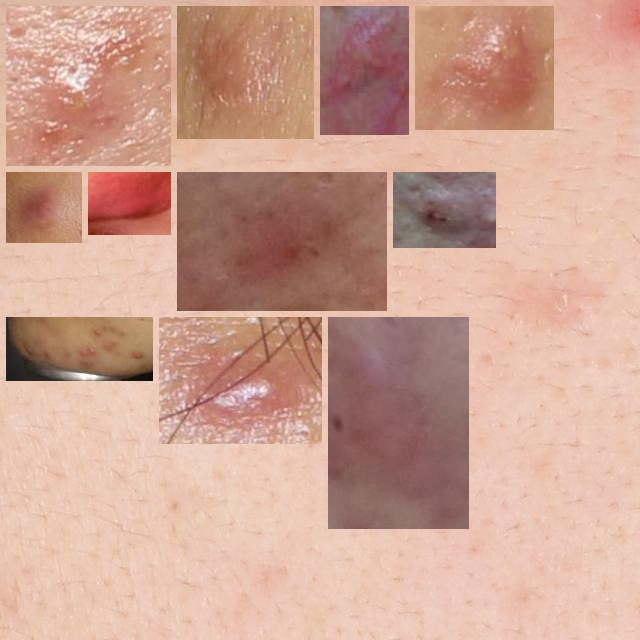nodule: (336, 325, 461, 521), (185, 180, 379, 303), (14, 14, 163, 158), (167, 325, 314, 436), (185, 14, 306, 131), (423, 14, 546, 122), (328, 14, 401, 127), (14, 325, 145, 373), (401, 180, 488, 240), (14, 180, 74, 235), (96, 180, 163, 227)
